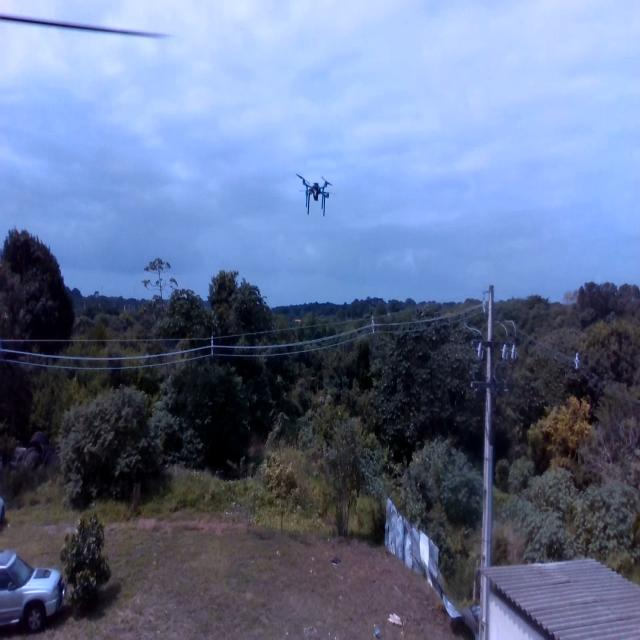-uav-: (293, 162, 341, 225)
